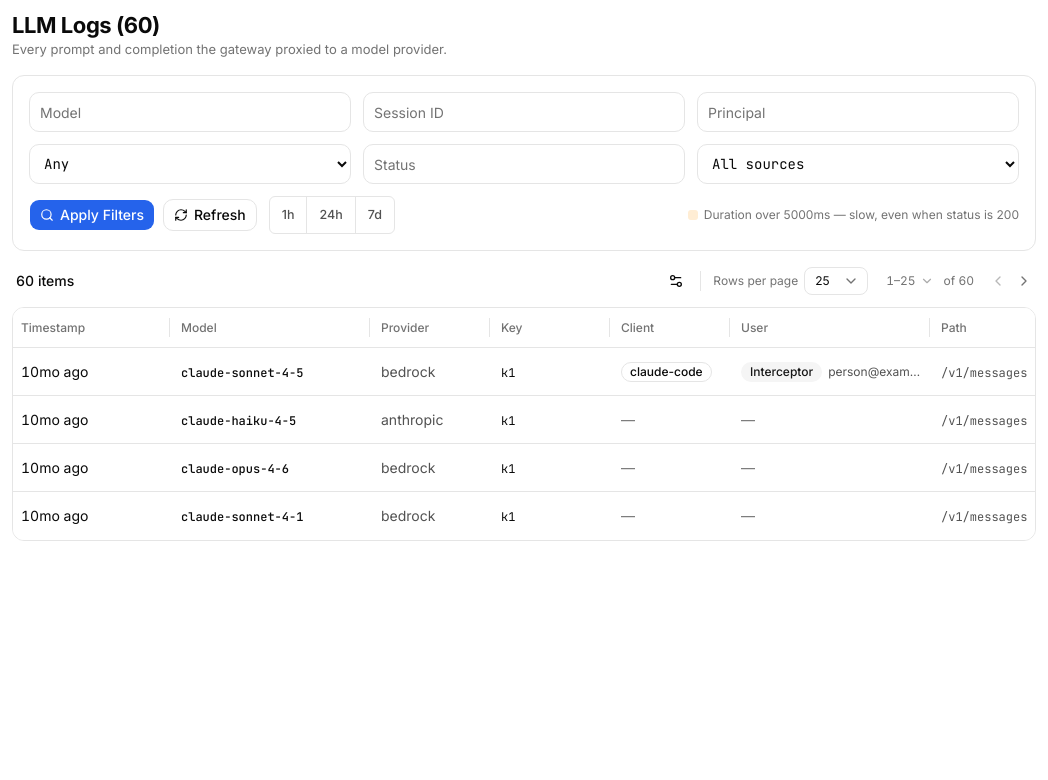
Test: LlmLogsPage › requests the next page and records it in the URL
expect the text "60 items" is shown: met, box x1=16 y1=271 x2=74 y2=291
What coordinates should you click on to do the following:
click the button named "Next page"
I would click on:
 (1024, 281)
Its box is x1=1012 y1=269 x2=1036 y2=293.
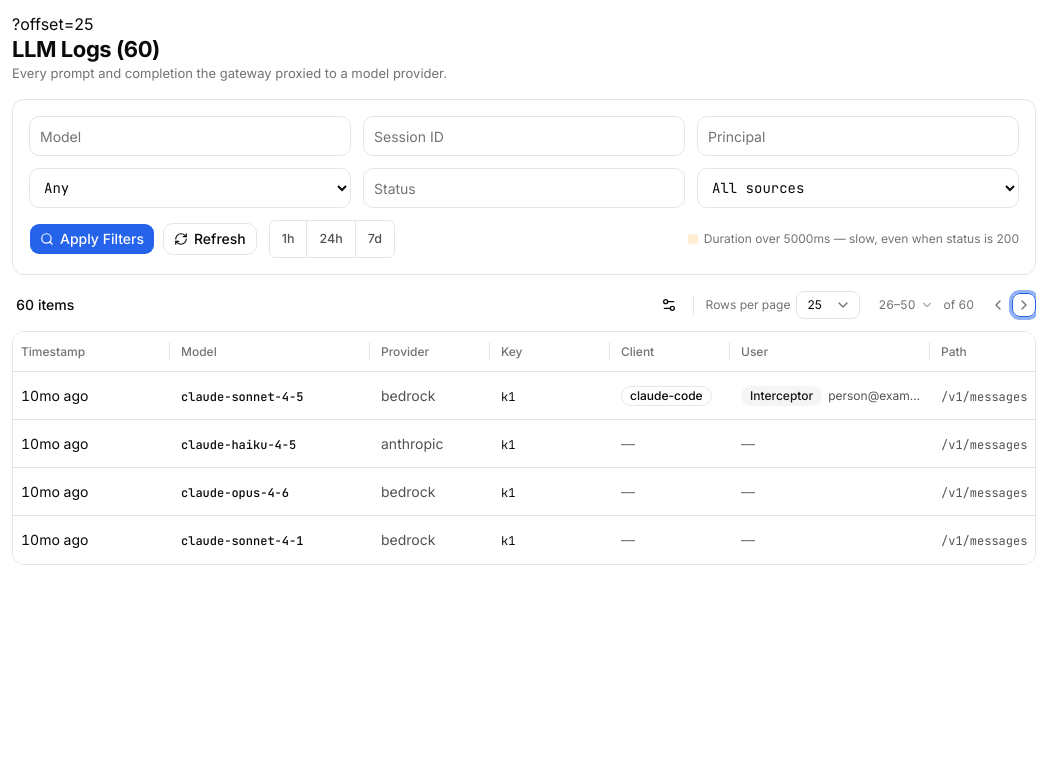
expect the text with test id "location-search" shows "offset=25": met, box x1=12 y1=14 x2=94 y2=34
